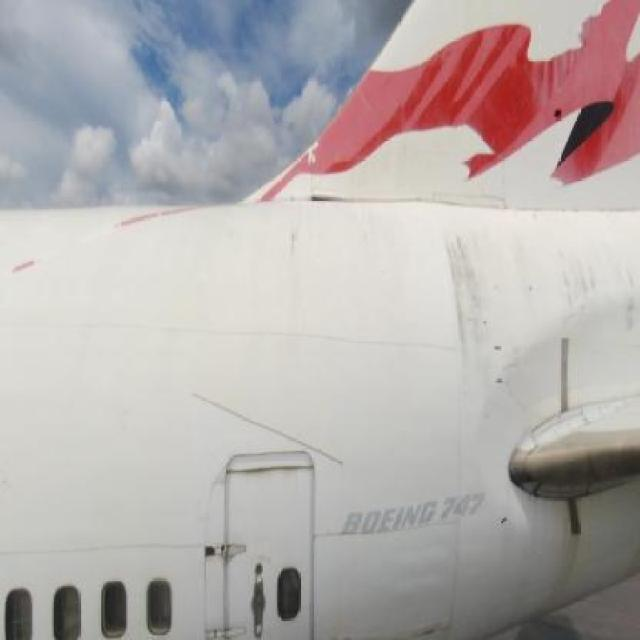Missing-Rivet: (532, 407, 591, 445), (541, 482, 585, 509)
Rust: (439, 213, 521, 425), (524, 210, 640, 332), (542, 495, 600, 599), (225, 454, 320, 492)
